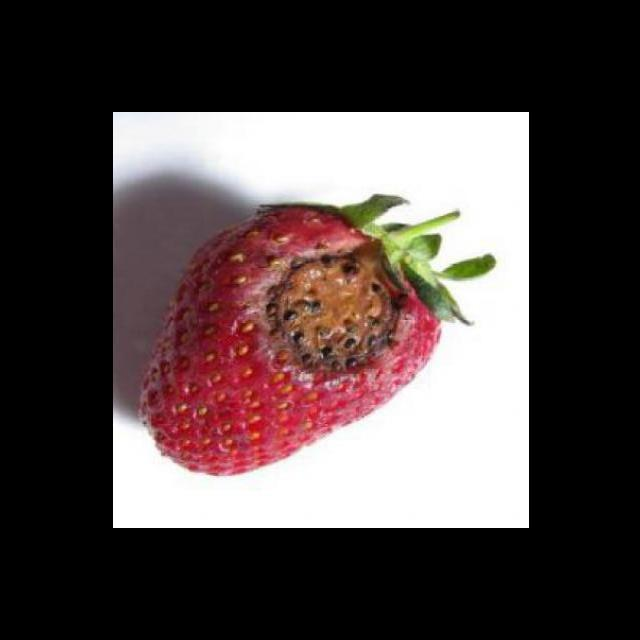Anthracnose Fruit Rot: (242, 230, 419, 392)
